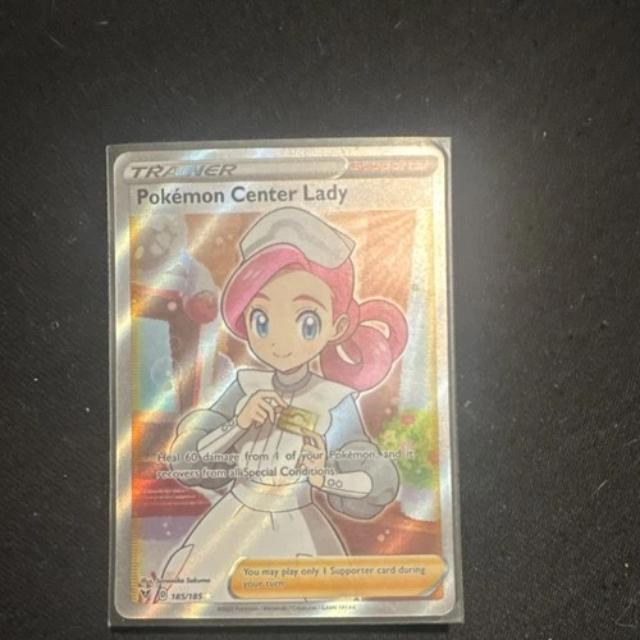Card: (106, 143, 461, 622)
Name: (129, 179, 352, 210)
